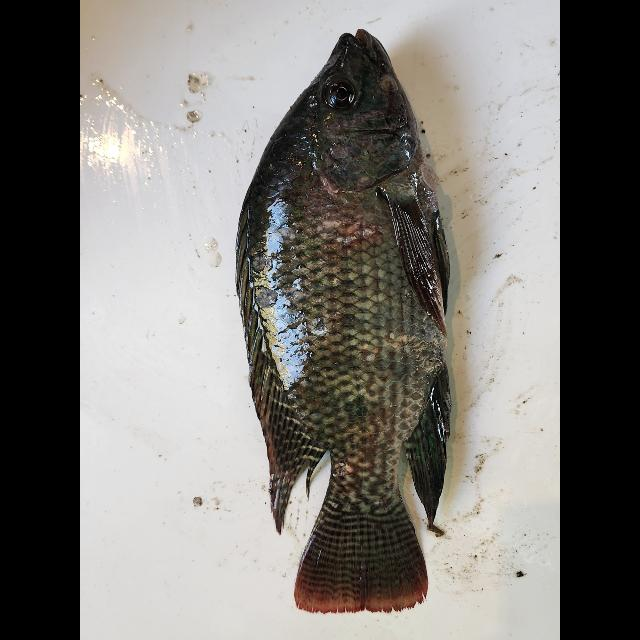Tilapia: (231, 26, 455, 614)
